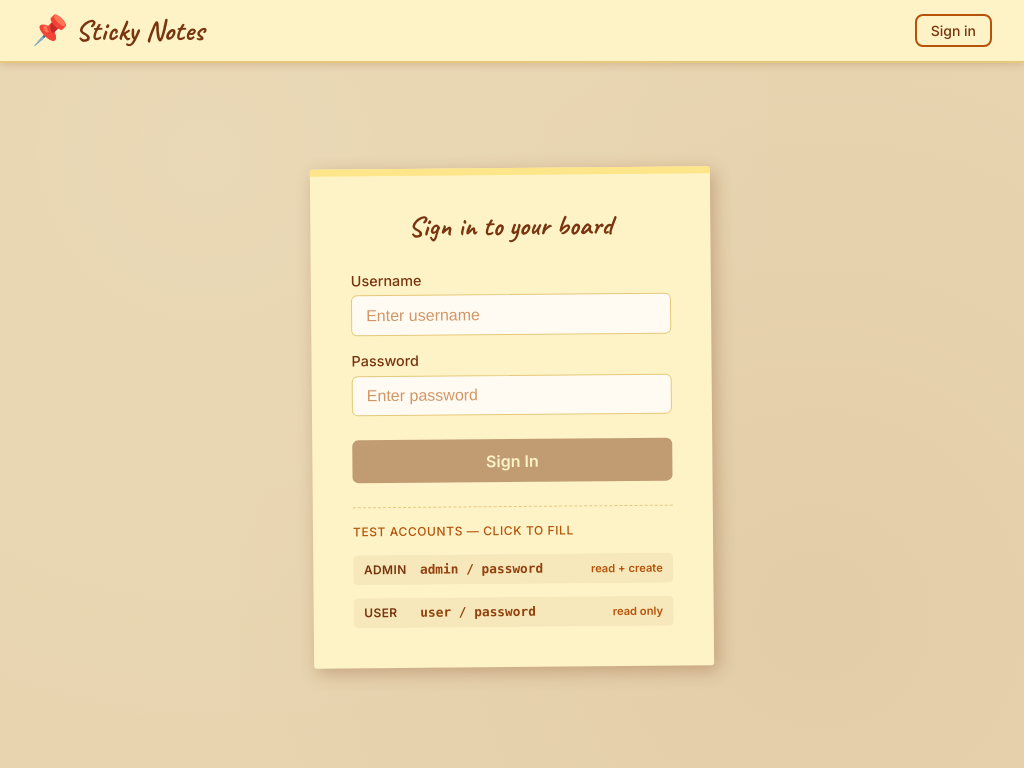
it: Login Page › should show error message on invalid credentials
This screenshot has width=1024, height=768.
In the field with id "username": (511,315) top-left (351, 293), bottom-right (671, 337), type "wronguser"
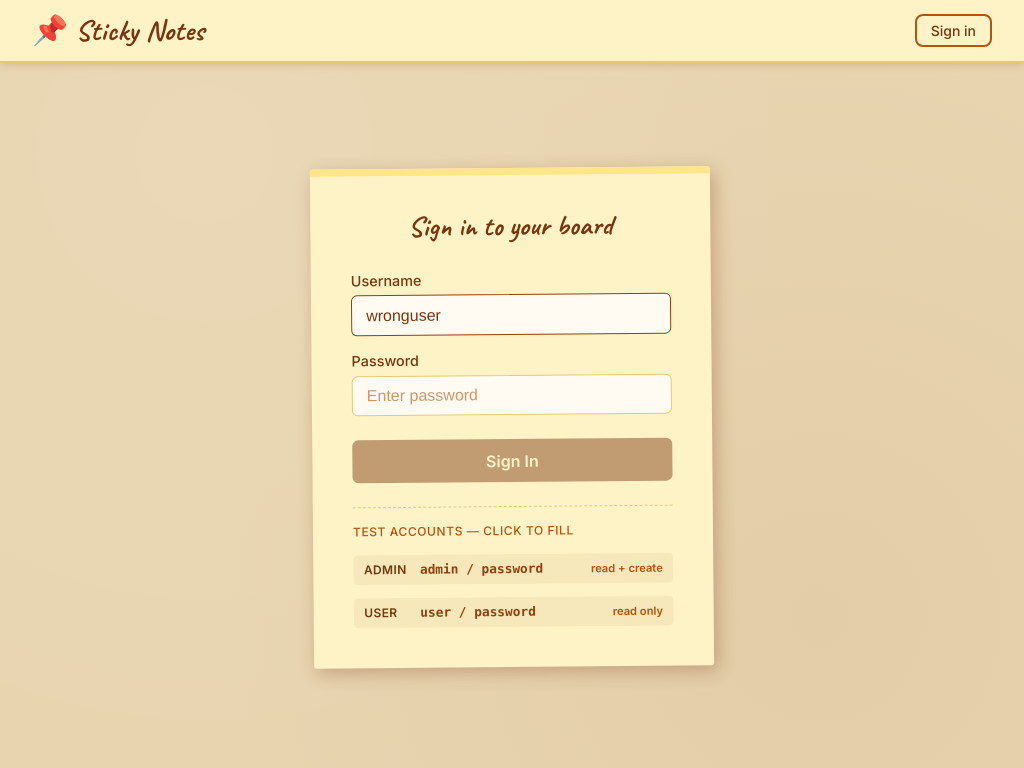
In the password field labelled "Password": (512,395) top-left (352, 373), bottom-right (672, 417), type "wrongpassword"
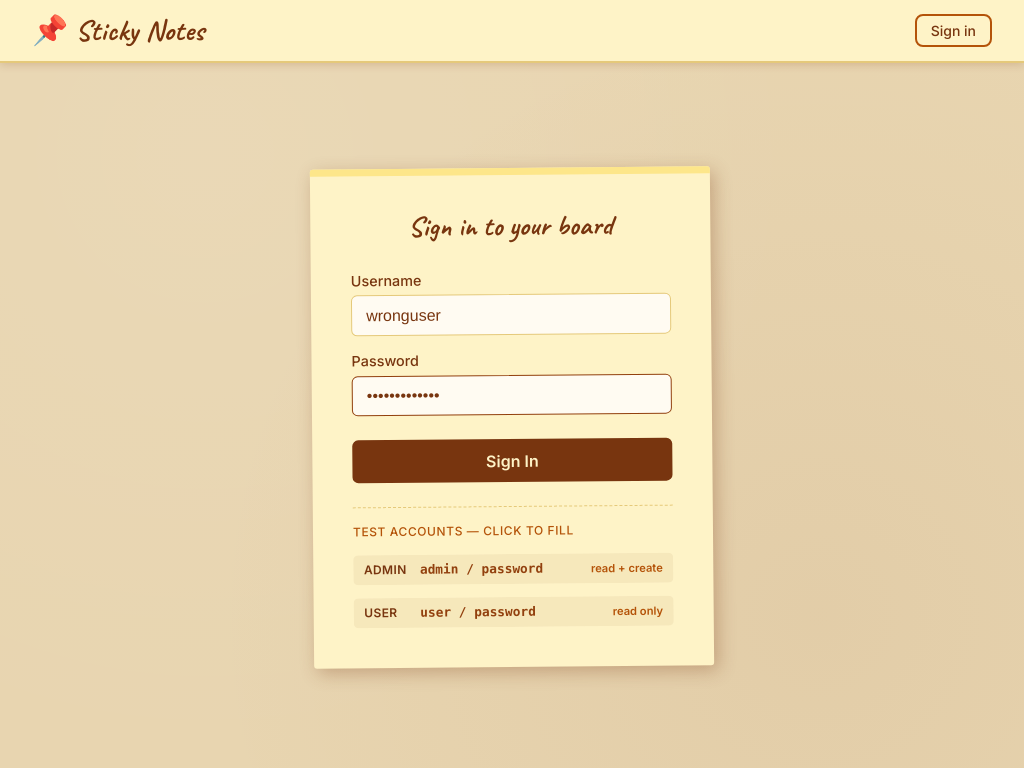
Click the submit button: (512,461) top-left (352, 438), bottom-right (672, 483)
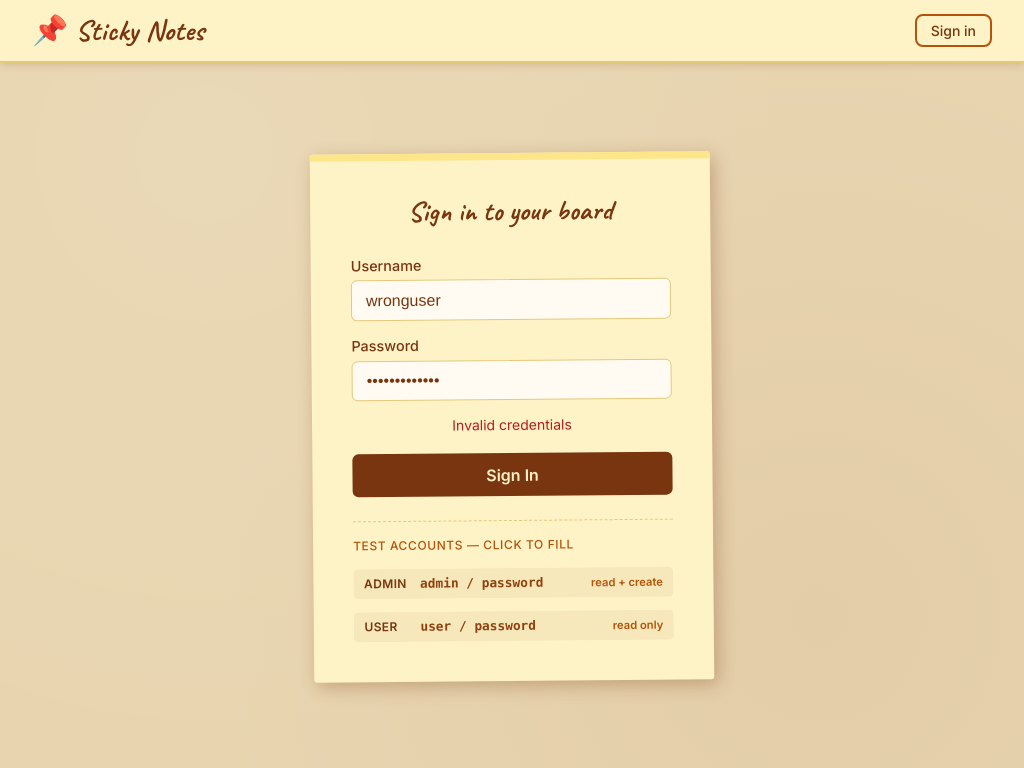
Now the message with class "error-message" reads "Invalid credentials", box top-left (452, 416), bottom-right (572, 434)
